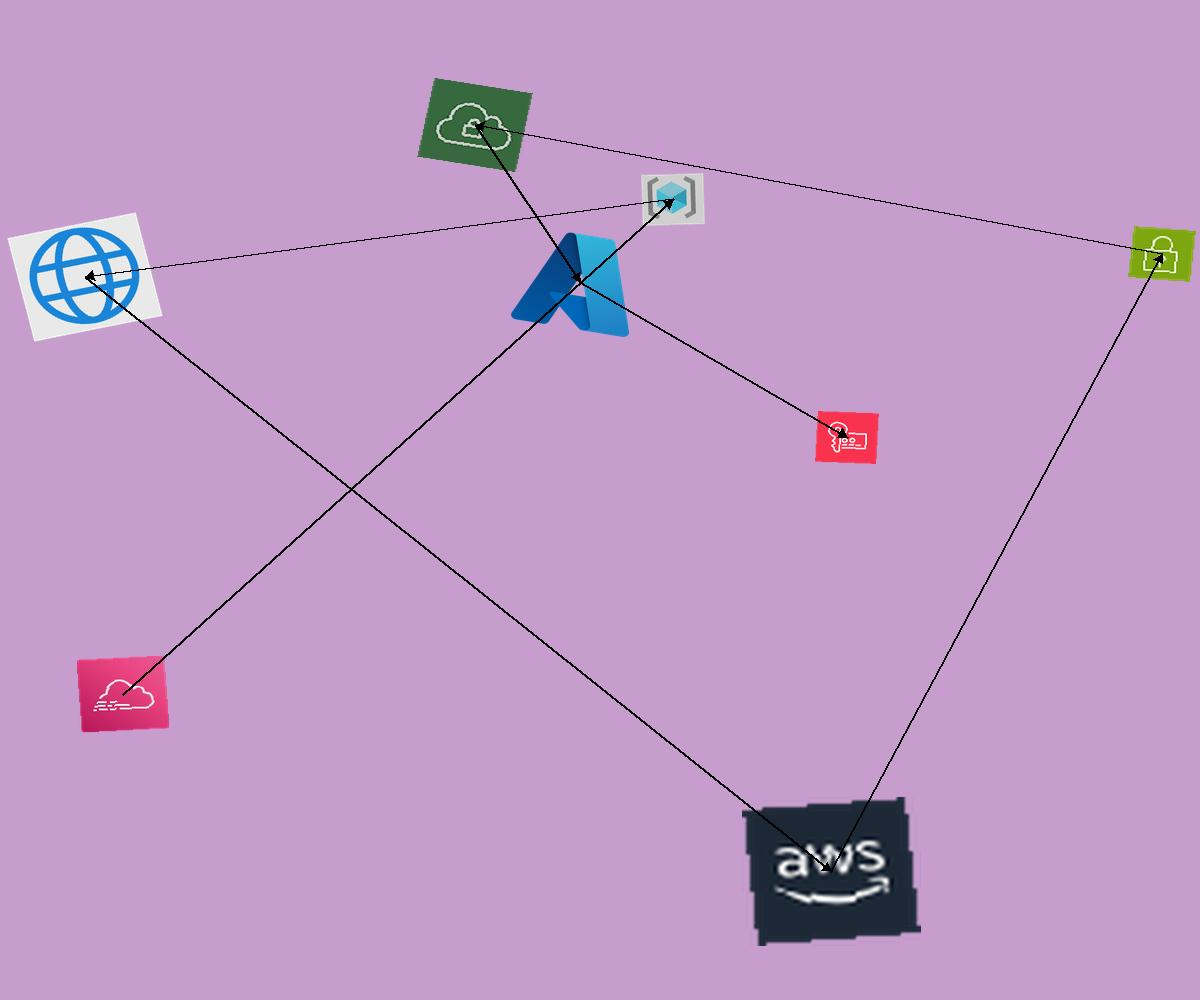AWS-Cloud-logo: (742, 797, 921, 946)
AWS-CloudTrail: (76, 655, 170, 733)
AWS-Key-Management-Service: (815, 411, 879, 464)
AWS-Private_vpc: (417, 77, 533, 173)
AWS-Public-subnet: (1128, 226, 1196, 282)
Azure_http: (7, 212, 163, 342)
Azure_resource_group: (641, 173, 705, 226)
Azure_services: (503, 218, 657, 346)
